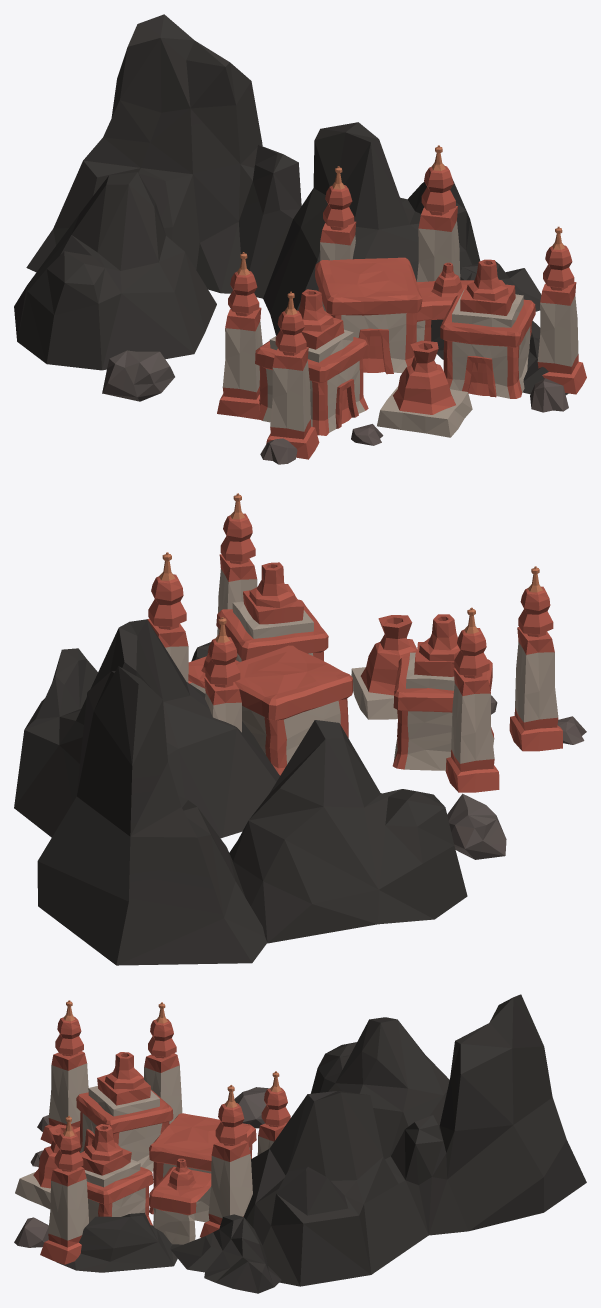
The model's file is townDropstone2.fbx.
The picture shows the model from 3 angles, top to bottom: view 1: azimuth 30°, elevation 25°; view 2: azimuth 150°, elevation 25°; view 3: azimuth 270°, elevation 25°; orthographic projection. The views are drawn at different scales.
Visible parts, largest first — view 1: townDropstone2; view 2: townDropstone2; view 3: townDropstone2.
Boxes of the visible parts, <box> form: townDropstone2: <box>14,14,586,464</box>; townDropstone2: <box>14,493,586,965</box>; townDropstone2: <box>14,994,586,1293</box>.
Bounding box in the file's own units: 5.82 × 2.96 × 7.47.
